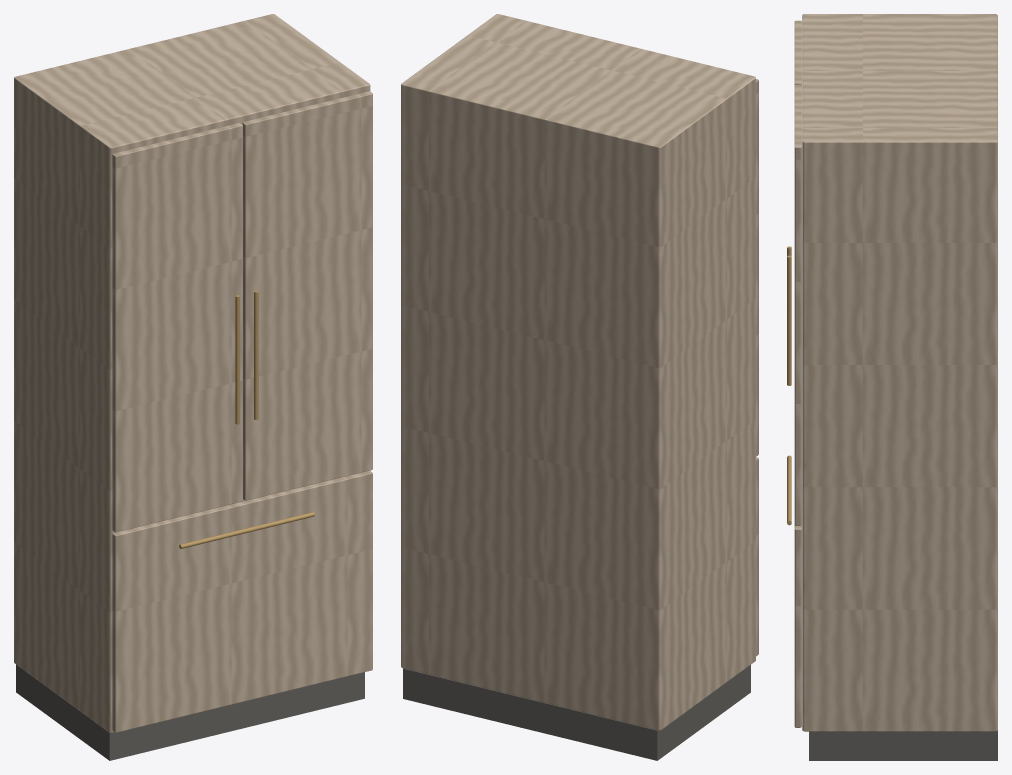
Rendered from kowhai-hero-kit-04.glb.
The picture shows the model from 3 angles, left to right: view 1: azimuth 30°, elevation 25°; view 2: azimuth 150°, elevation 25°; view 3: azimuth 270°, elevation 25°; orthographic projection.
Parts seen in each view (by area): view 1: Fridge_CabinetBox, Fridge_LowerFreezerDrawer, Fridge_UpperDoor_1, Fridge_UpperDoor_2, Fridge_VentilatedPlinth, Fridge_FreezerBrassHandle, Fridge_BrassHandle_1, Fridge_BrassHandle_2; view 2: Fridge_CabinetBox, Fridge_VentilatedPlinth, Fridge_UpperDoor_1; view 3: Fridge_CabinetBox, Fridge_VentilatedPlinth, Fridge_UpperDoor_2, Fridge_LowerFreezerDrawer, Fridge_BrassHandle_2, Fridge_UpperDoor_1.
Boxes of the visible parts, x1,y1,x2,y2 form: Fridge_CabinetBox: (14,14,370,732); Fridge_LowerFreezerDrawer: (112,470,372,732); Fridge_UpperDoor_1: (112,123,242,532); Fridge_UpperDoor_2: (242,91,372,500); Fridge_VentilatedPlinth: (16,664,364,760); Fridge_FreezerBrassHandle: (179,512,314,548); Fridge_BrassHandle_1: (235,295,239,424); Fridge_BrassHandle_2: (254,290,258,419); Fridge_CabinetBox: (401,14,755,730); Fridge_VentilatedPlinth: (403,665,750,760); Fridge_UpperDoor_1: (756,79,758,456); Fridge_CabinetBox: (802,14,997,731); Fridge_VentilatedPlinth: (809,730,997,760); Fridge_UpperDoor_2: (794,84,801,525); Fridge_LowerFreezerDrawer: (794,525,801,727); Fridge_BrassHandle_2: (787,255,791,385); Fridge_UpperDoor_1: (794,20,801,84).
Size of the model in its own units: 0.9001 by 2.03 by 0.6251.
3 materials, 2 textured.
